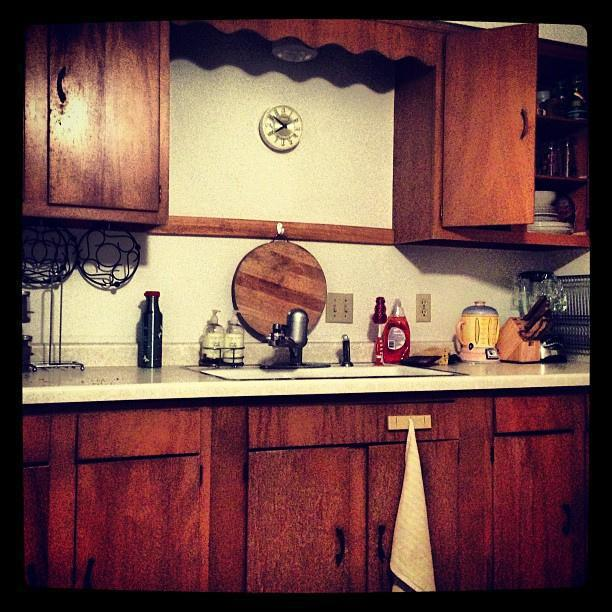Lavaplatos: (211, 310, 466, 382)
